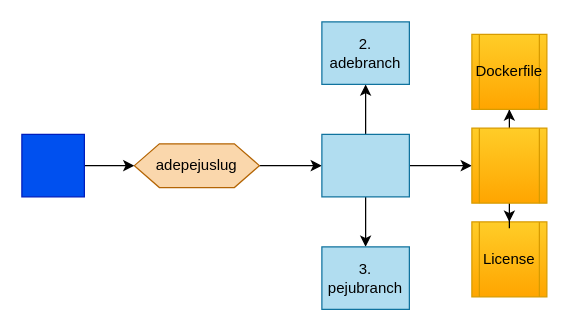
This 569x331 diagram has some shape labels left out. Each missing label, with the centre of its shape:
1. main: point (365, 165)
Adepeju: point (52, 165)
readme: point (509, 165)
